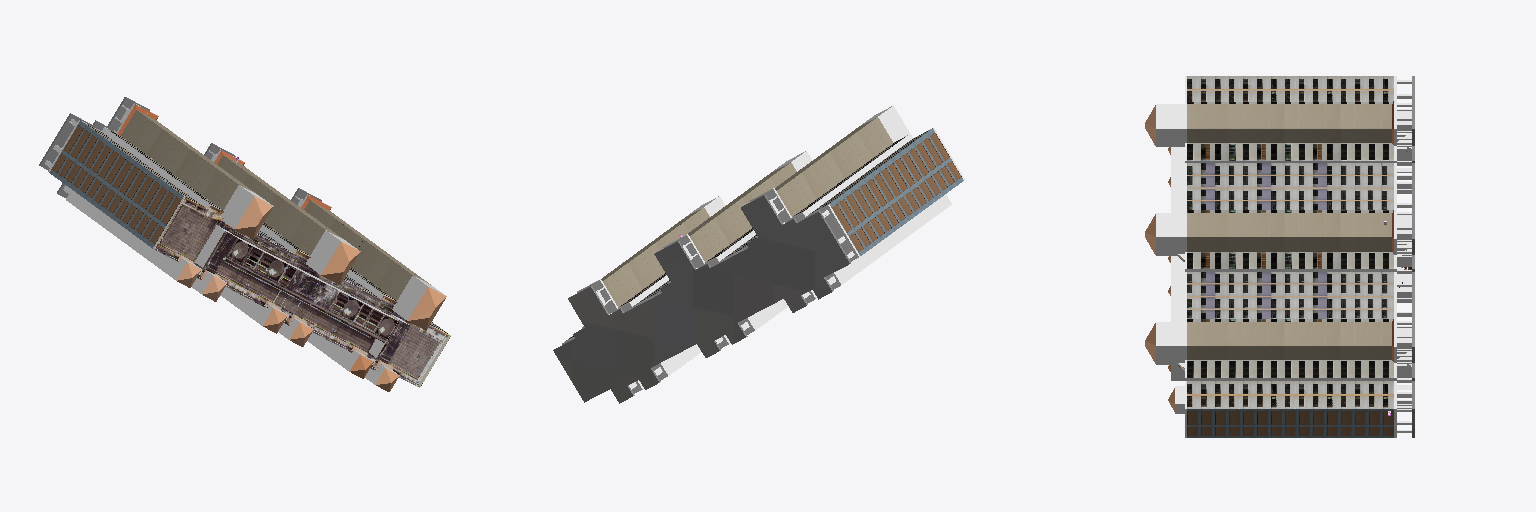
3 renders of one model, left to right at view 1: azimuth 30°, elevation 25°; view 2: azimuth 150°, elevation 25°; view 3: azimuth 270°, elevation 25°, orthographic.
Visible parts, largest first — view 1: polygon.019; view 2: polygon.019; view 3: polygon.019.
Part boxes in pixels (x1,y1,x2,y2): polygon.019: (39,97,450,391); polygon.019: (553,105,964,403); polygon.019: (1145,76,1414,437).
Bounding box in the file's own units: 68.64 × 55.05 × 53.57.
Materials: 1 (1 with a texture image).